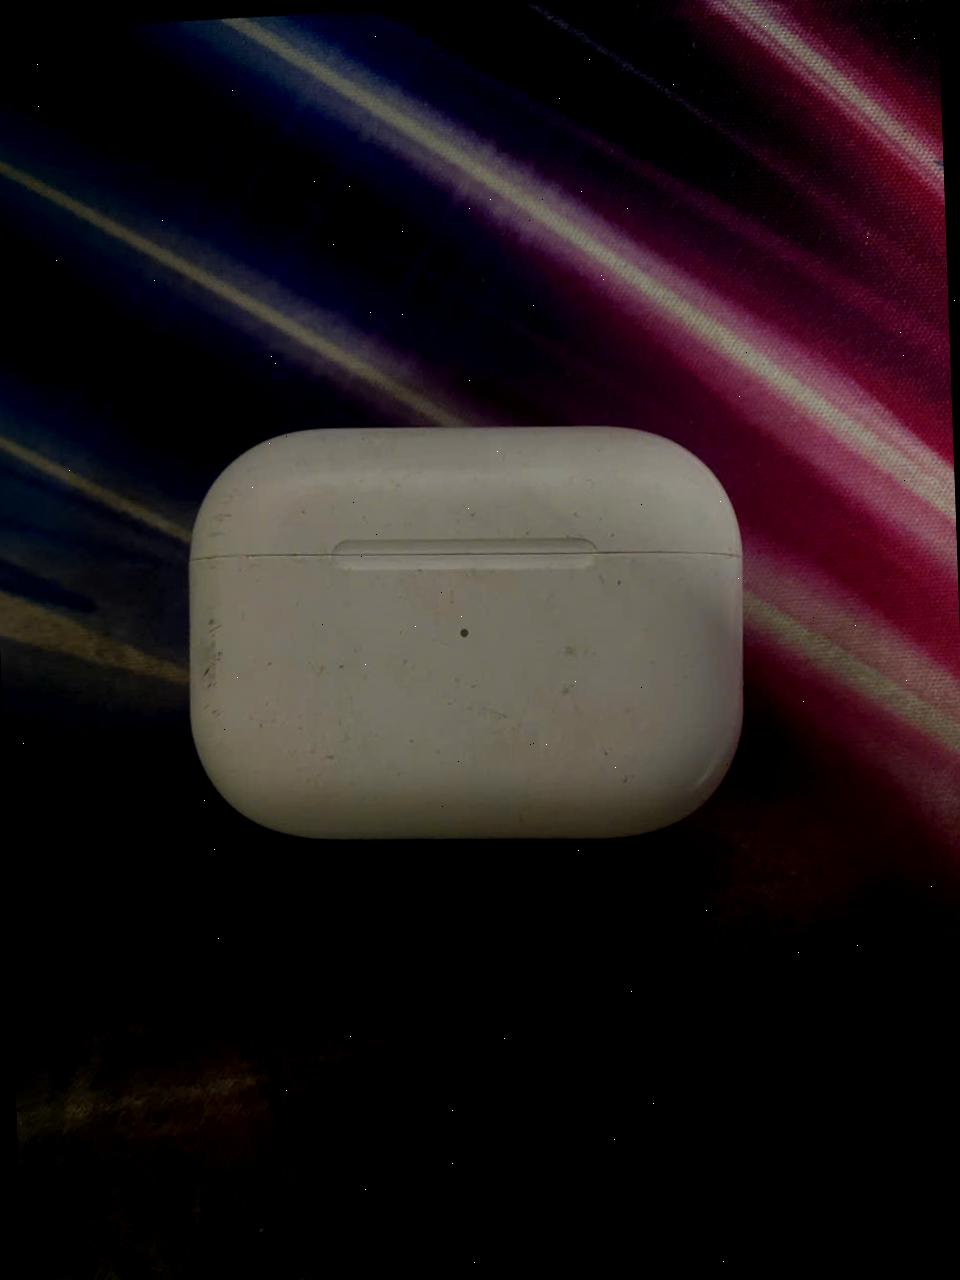airpod: (191, 426, 743, 840)
